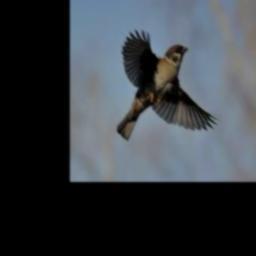Sparrow: (117, 28, 219, 141)
